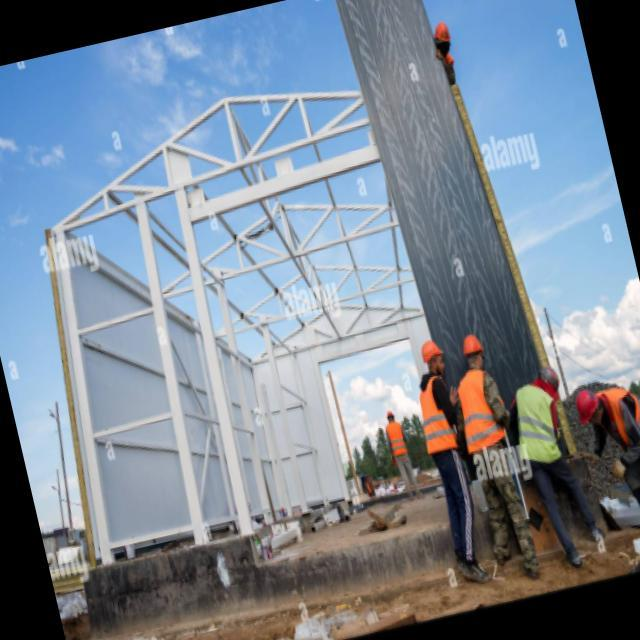boots: (453, 550, 492, 590), (407, 489, 427, 503)
helmet: (571, 384, 607, 434), (417, 335, 450, 381), (459, 331, 489, 374), (536, 362, 563, 397), (385, 409, 396, 423)
vest: (504, 379, 569, 472), (450, 363, 513, 456), (588, 376, 640, 469), (410, 372, 462, 457), (384, 419, 409, 457)
